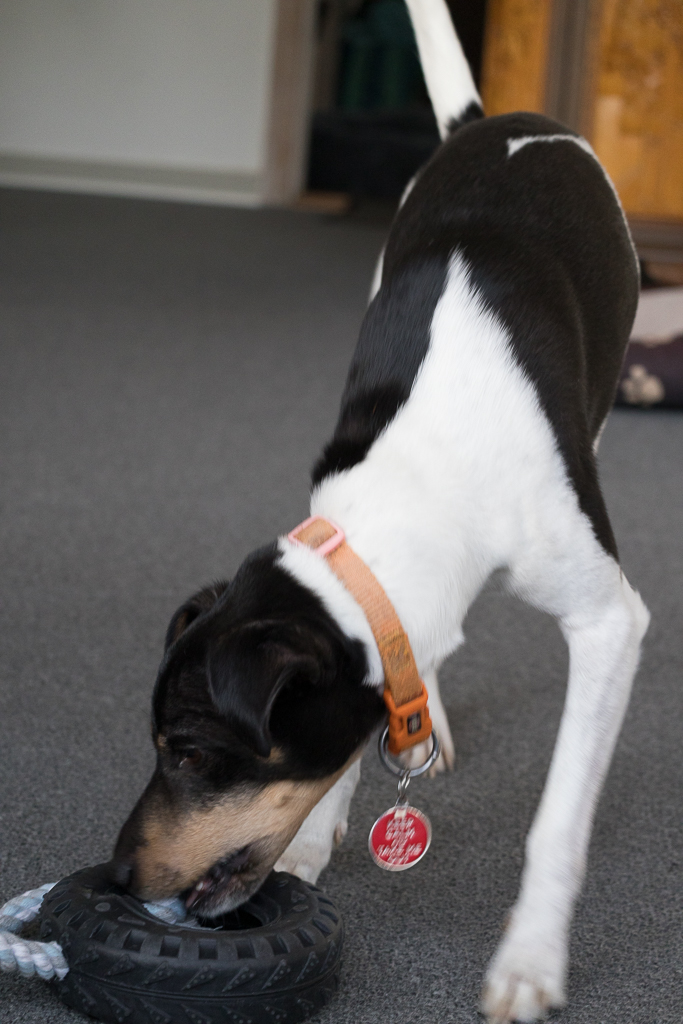Dog: (98, 0, 667, 1024)
